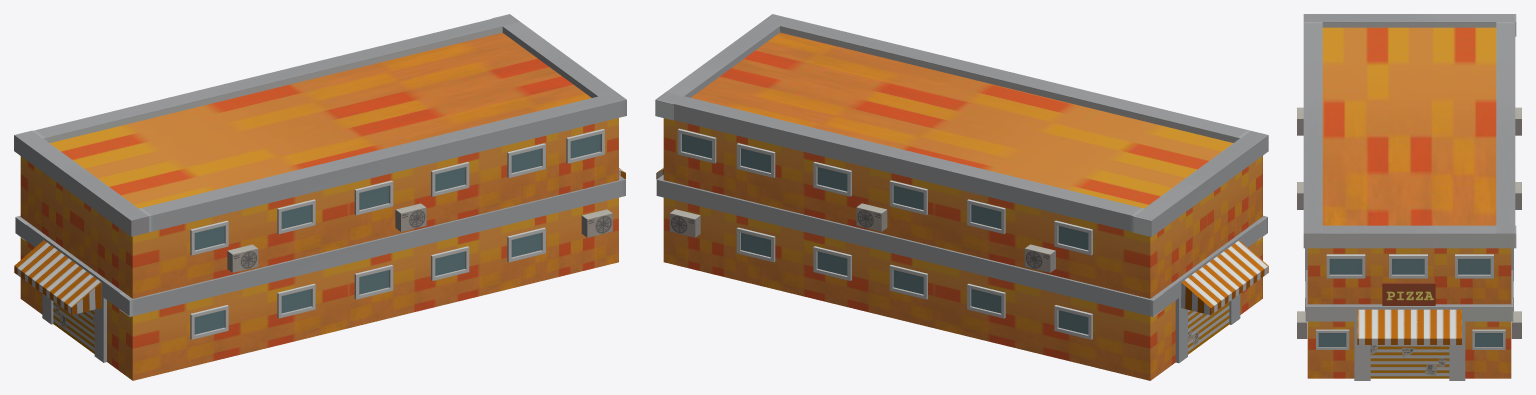
Rendered from Nha_vang_dai_pizza.fbx.
3 views of the same model, side by side, from view 1: azimuth 30°, elevation 25°; view 2: azimuth 150°, elevation 25°; view 3: azimuth 270°, elevation 25° (orthographic). The views are drawn at different scales.
Parts seen in each view (by area): view 1: Nha_vang_dai_pizza; view 2: Nha_vang_dai_pizza; view 3: Nha_vang_dai_pizza.
Part boxes in pixels (x1,y1,x2,y2): Nha_vang_dai_pizza: (14, 14, 626, 380); Nha_vang_dai_pizza: (655, 14, 1268, 380); Nha_vang_dai_pizza: (1297, 14, 1521, 380).
Size of the model in its own units: 2458 by 690 by 952.
